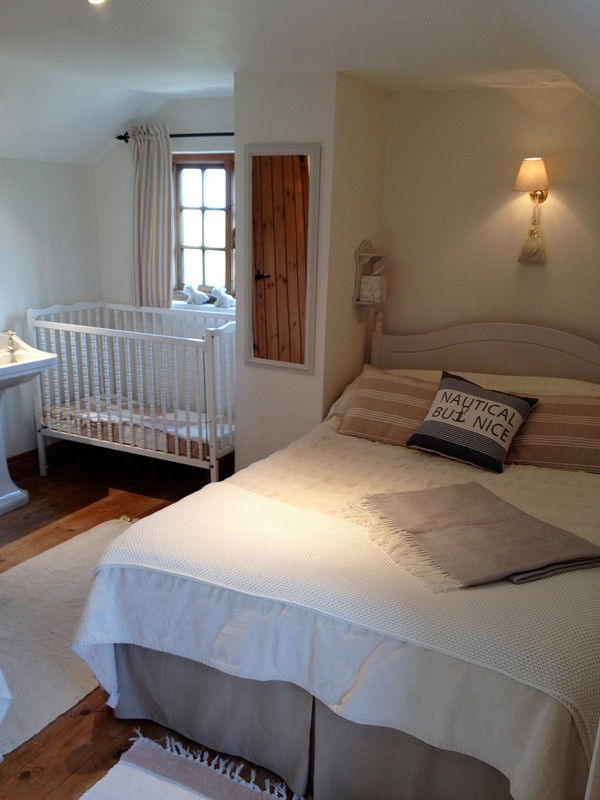bed: (104, 313, 600, 791)
lamp: (507, 144, 557, 274)
